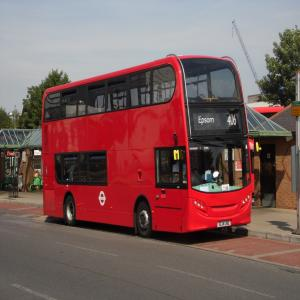Vehicle-registration-plate: (218, 221, 231, 228)
